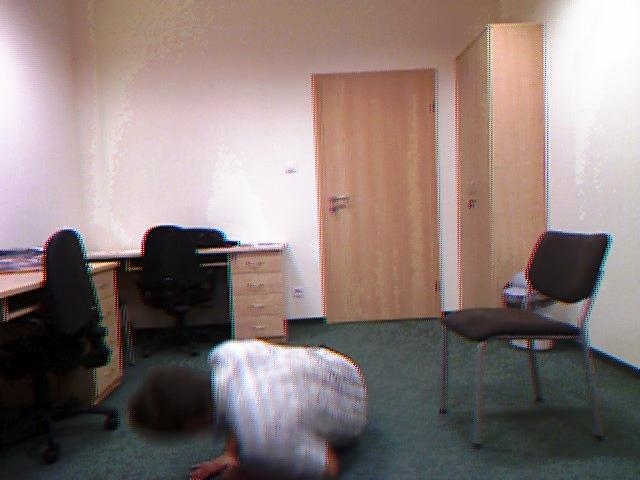fall: (129, 340, 369, 480)
